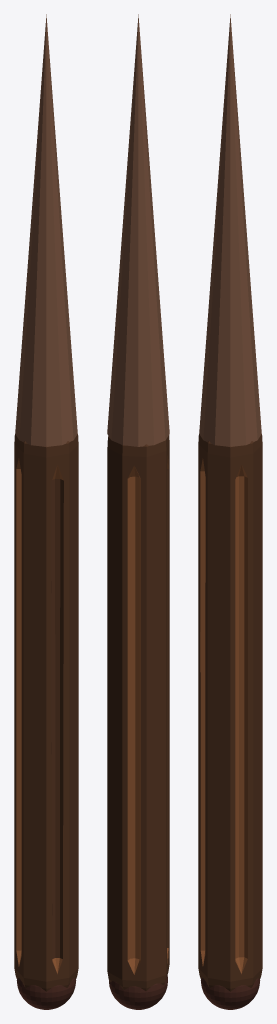
The model's file is Wand 523.glb.
The picture shows the model from 3 angles, left to right: view 1: azimuth 90°, elevation 25°; view 2: azimuth 150°, elevation 25°; view 3: azimuth 270°, elevation 25°; orthographic projection.
Parts seen in each view (by area): view 1: GeneratedWand; view 2: GeneratedWand; view 3: GeneratedWand.
Boxes of the visible parts, <box> form: GeneratedWand: <box>14,14,78,1009</box>; GeneratedWand: <box>107,14,169,1009</box>; GeneratedWand: <box>198,14,262,1009</box>.
Size of the model in its own units: 0.0289 by 0.4932 by 0.0289.
